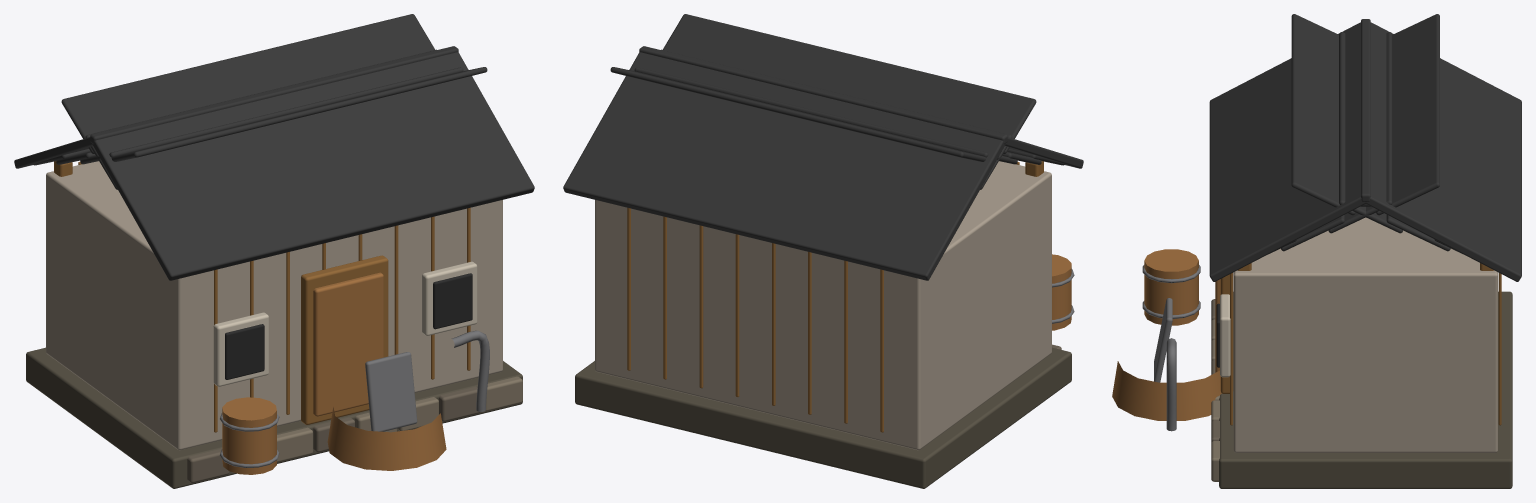
Rendered from washhouse.glb.
The picture shows the model from 3 angles, left to right: view 1: azimuth 30°, elevation 25°; view 2: azimuth 150°, elevation 25°; view 3: azimuth 270°, elevation 25°; orthographic projection.
Parts seen in each view (by area): view 1: washhouse-farm-roof-slate, washhouse-farm-plaster, washhouse-farm-wood, washhouse-farm-stone-dark, washhouse-farm-wood-dark, washhouse-farm-metal, washhouse-farm-window, washhouse-farm-trim, washhouse-farm-stone, washhouse-farm-rock; view 2: washhouse-farm-plaster, washhouse-farm-roof-slate, washhouse-farm-stone-dark, washhouse-farm-wood-dark, washhouse-farm-wood; view 3: washhouse-farm-roof-slate, washhouse-farm-plaster, washhouse-farm-stone-dark, washhouse-farm-wood, washhouse-farm-metal, washhouse-farm-wood-dark, washhouse-farm-trim, washhouse-farm-stone.
Part boxes in pixels (left/top/right/bottom): washhouse-farm-roof-slate: left=14, top=14, right=534, bottom=280; washhouse-farm-plaster: left=46, top=161, right=502, bottom=450; washhouse-farm-wood: left=222, top=272, right=446, bottom=474; washhouse-farm-stone-dark: left=26, top=347, right=522, bottom=488; washhouse-farm-wood-dark: left=54, top=161, right=470, bottom=432; washhouse-farm-metal: left=219, top=330, right=489, bottom=467; washhouse-farm-window: left=225, top=273, right=472, bottom=379; washhouse-farm-trim: left=213, top=261, right=477, bottom=386; washhouse-farm-stone: left=233, top=376, right=522, bottom=472; washhouse-farm-rock: left=187, top=386, right=480, bottom=482; washhouse-farm-plaster: left=595, top=161, right=1051, bottom=450; washhouse-farm-roof-slate: left=563, top=14, right=1083, bottom=280; washhouse-farm-stone-dark: left=575, top=347, right=1071, bottom=488; washhouse-farm-wood-dark: left=627, top=161, right=1043, bottom=432; washhouse-farm-wood: left=1052, top=254, right=1071, bottom=330; washhouse-farm-roof-slate: left=1209, top=14, right=1521, bottom=281; washhouse-farm-plaster: left=1233, top=217, right=1497, bottom=452; washhouse-farm-stone-dark: left=1219, top=291, right=1512, bottom=488; washhouse-farm-wood: left=1112, top=249, right=1221, bottom=420; washhouse-farm-metal: left=1142, top=265, right=1200, bottom=431; washhouse-farm-wood-dark: left=1220, top=263, right=1501, bottom=425; washhouse-farm-trim: left=1220, top=294, right=1230, bottom=377; washhouse-farm-stone: left=1211, top=319, right=1219, bottom=481.
Bounding box in the file's own units: 5.05 × 4.1 × 4.96.
